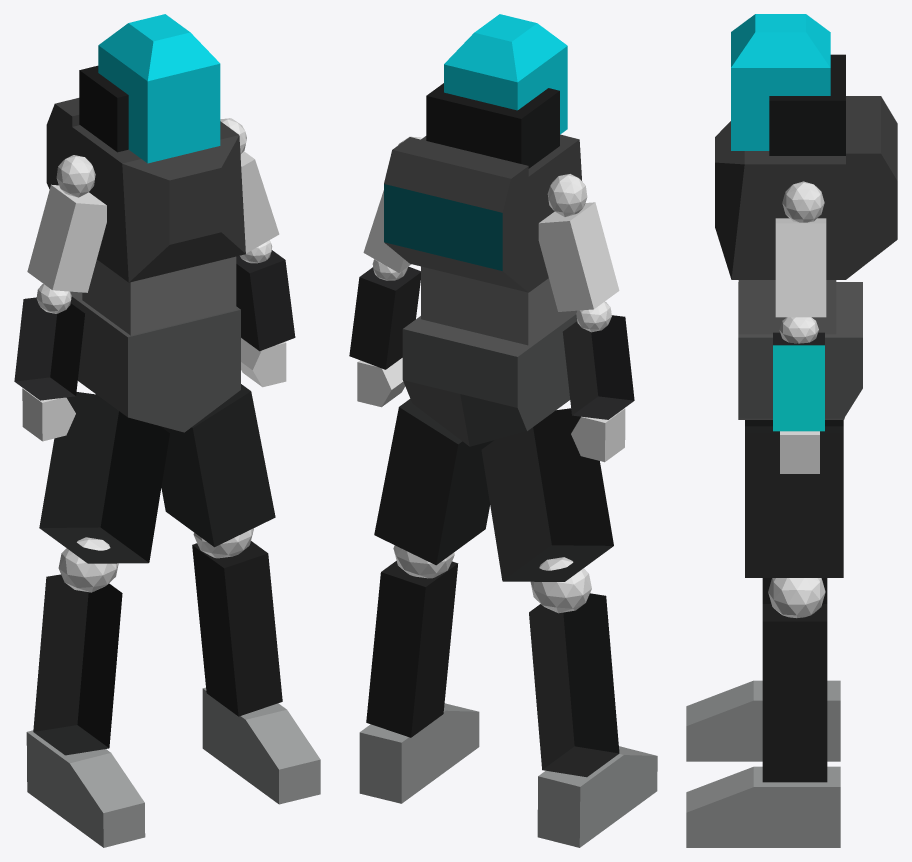
Rendered from SpaceColonistV1WithColor.fbx.
The picture shows the model from 3 angles, left to right: view 1: azimuth 30°, elevation 25°; view 2: azimuth 150°, elevation 25°; view 3: azimuth 270°, elevation 25°; orthographic projection.
Parts seen in each view (by area): view 1: Cube.001, Cube, Cube.013, Cube.006, Cube.014, Cube.007, Cube.008, Cube.015, Cube.009, Cube.002, Cube.010, Cube.011 (+8 smaller); view 2: Cube.001, Cube, Cube.013, Cube.006, Cube.014, Cube.007, Cube.008, Cube.015, Cube.009, Cube.002, Cube.010, Cube.011 (+8 smaller); view 3: Cube.001, Cube, Cube.007, Cube.008, Cube.009, Cube.006, Cube.015, Cube.003, Cube.004, Cube.002, Icosphere.002, Cube.005 (+2 smaller).
Part boxes in pixels (x1,y1,x2,y2): Cube.001: (46,98,245,282); Cube: (79,14,220,163); Cube.013: (39,392,169,563); Cube.006: (70,291,240,432); Cube.014: (33,574,122,755); Cube.007: (160,384,275,547); Cube.008: (192,541,282,716); Cube.015: (26,730,145,847); Cube.009: (202,687,320,804); Cube.002: (82,256,236,335); Cube.010: (27,184,106,292); Cube.011: (14,297,84,400); Cube.001: (384,134,581,292); Cube: (426,14,567,168); Cube.013: (481,408,613,581); Cube.006: (402,310,577,446); Cube.014: (529,593,619,777); Cube.007: (374,399,493,565); Cube.008: (366,561,458,737); Cube.015: (537,746,657,847); Cube.009: (359,703,479,803); Cube.002: (421,266,574,345); Cube.010: (538,202,619,311); Cube.011: (562,315,634,419); Cube.001: (715,96,897,279); Cube: (731,14,845,155); Cube.007: (745,426,843,577); Cube.008: (762,604,827,782); Cube.009: (686,766,840,847); Cube.006: (738,282,862,419); Cube.015: (686,680,840,761); Cube.003: (775,218,826,317); Cube.004: (773,332,824,431); Cube.002: (738,280,836,334); Icosphere.002: (768,578,825,618); Cube.005: (780,431,819,473).
Bounding box in the file's own units: 359 × 1022 × 255.
